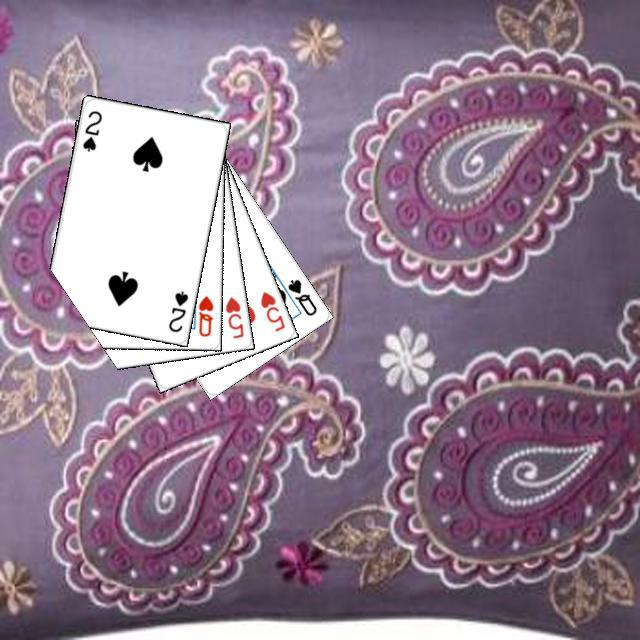2s: (163, 286, 190, 334), (78, 106, 104, 153)
5h: (255, 286, 287, 333), (220, 292, 245, 340)
Qh: (193, 291, 215, 338)
Qs: (283, 274, 319, 318)
